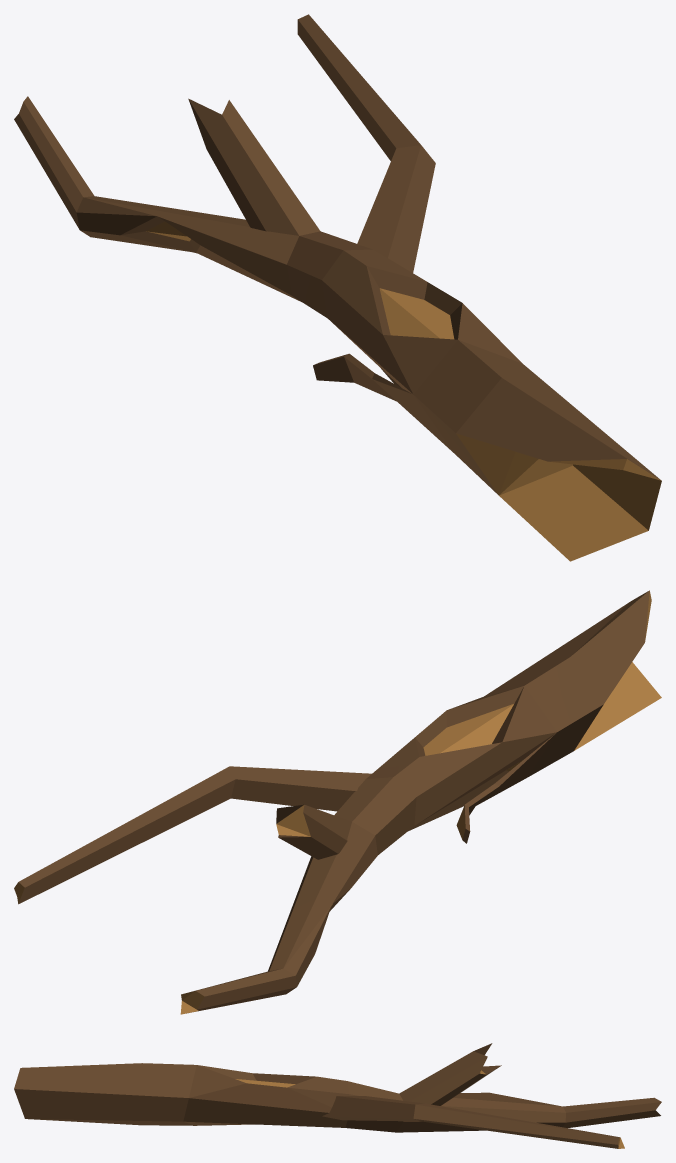
Rendered from tree-dead-log-small-b.glb.
The picture shows the model from 3 angles, top to bottom: view 1: azimuth 30°, elevation 25°; view 2: azimuth 150°, elevation 25°; view 3: azimuth 270°, elevation 25°; orthographic projection. The views are drawn at different scales.
Visible parts, largest first — view 1: tree-dead-log-small-b; view 2: tree-dead-log-small-b; view 3: tree-dead-log-small-b.
Part boxes in pixels (left/top/right/bottom): tree-dead-log-small-b: left=14, top=14, right=661, bottom=561; tree-dead-log-small-b: left=14, top=590, right=661, bottom=1014; tree-dead-log-small-b: left=14, top=1043, right=661, bottom=1148.
Size of the model in its own units: 1.03 by 0.5777 by 3.61.
